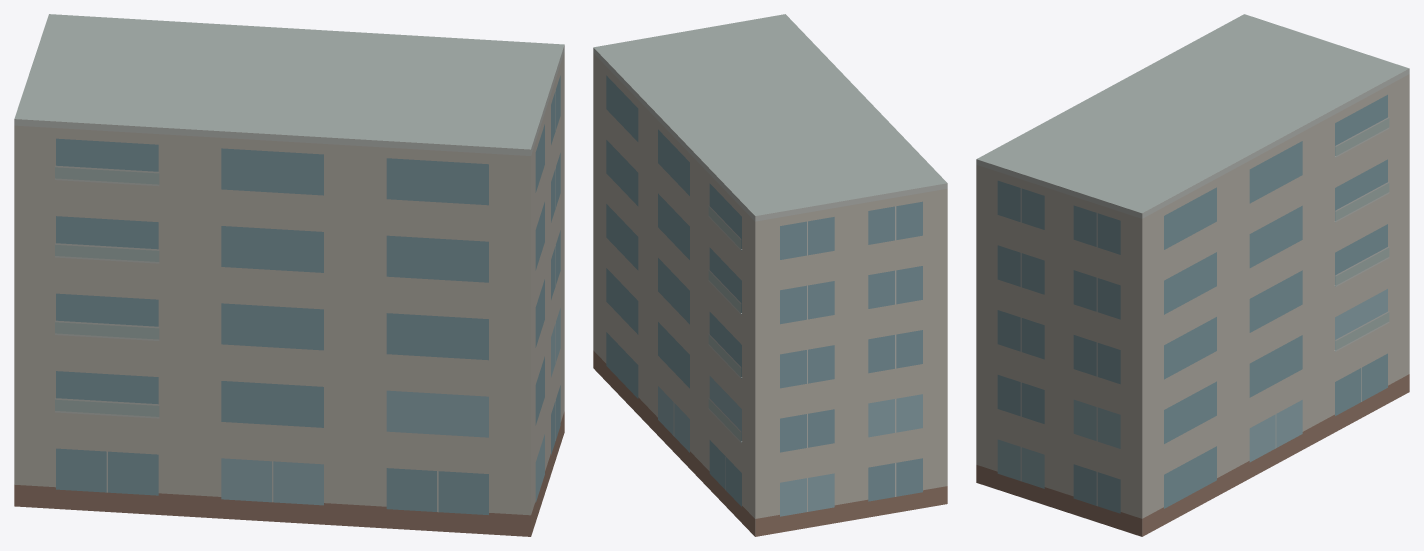
Rendered from survey-upis-32926610.glb.
3 views of the same model, side by side, from view 1: azimuth 30°, elevation 25°; view 2: azimuth 150°, elevation 25°; view 3: azimuth 270°, elevation 25° (orthographic). The views are drawn at different scales.
Visible parts, largest first — view 1: survey-upis-32926610.tmp; view 2: survey-upis-32926610.tmp; view 3: survey-upis-32926610.tmp.
Part boxes in pixels (left/top/right/bottom): survey-upis-32926610.tmp: left=14, top=14, right=564, bottom=536; survey-upis-32926610.tmp: left=593, top=14, right=947, bottom=536; survey-upis-32926610.tmp: left=976, top=14, right=1409, bottom=536.
Size of the model in its own units: 18.91 by 14.3 by 17.36.
